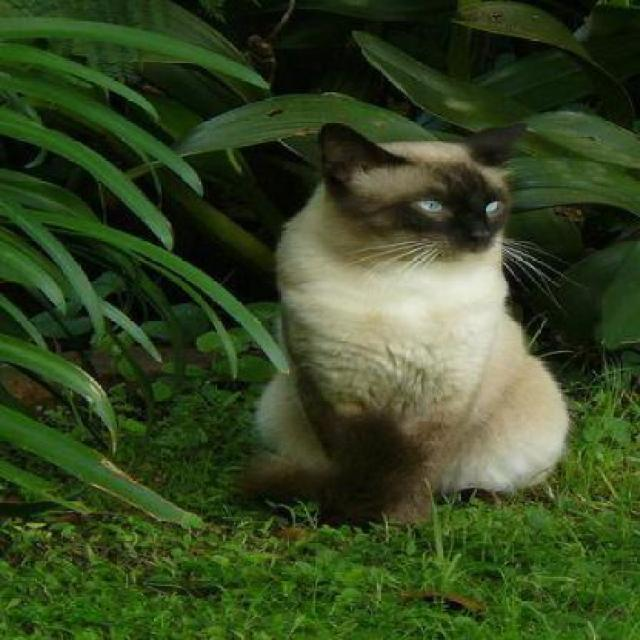cat: (241, 122, 570, 528)
